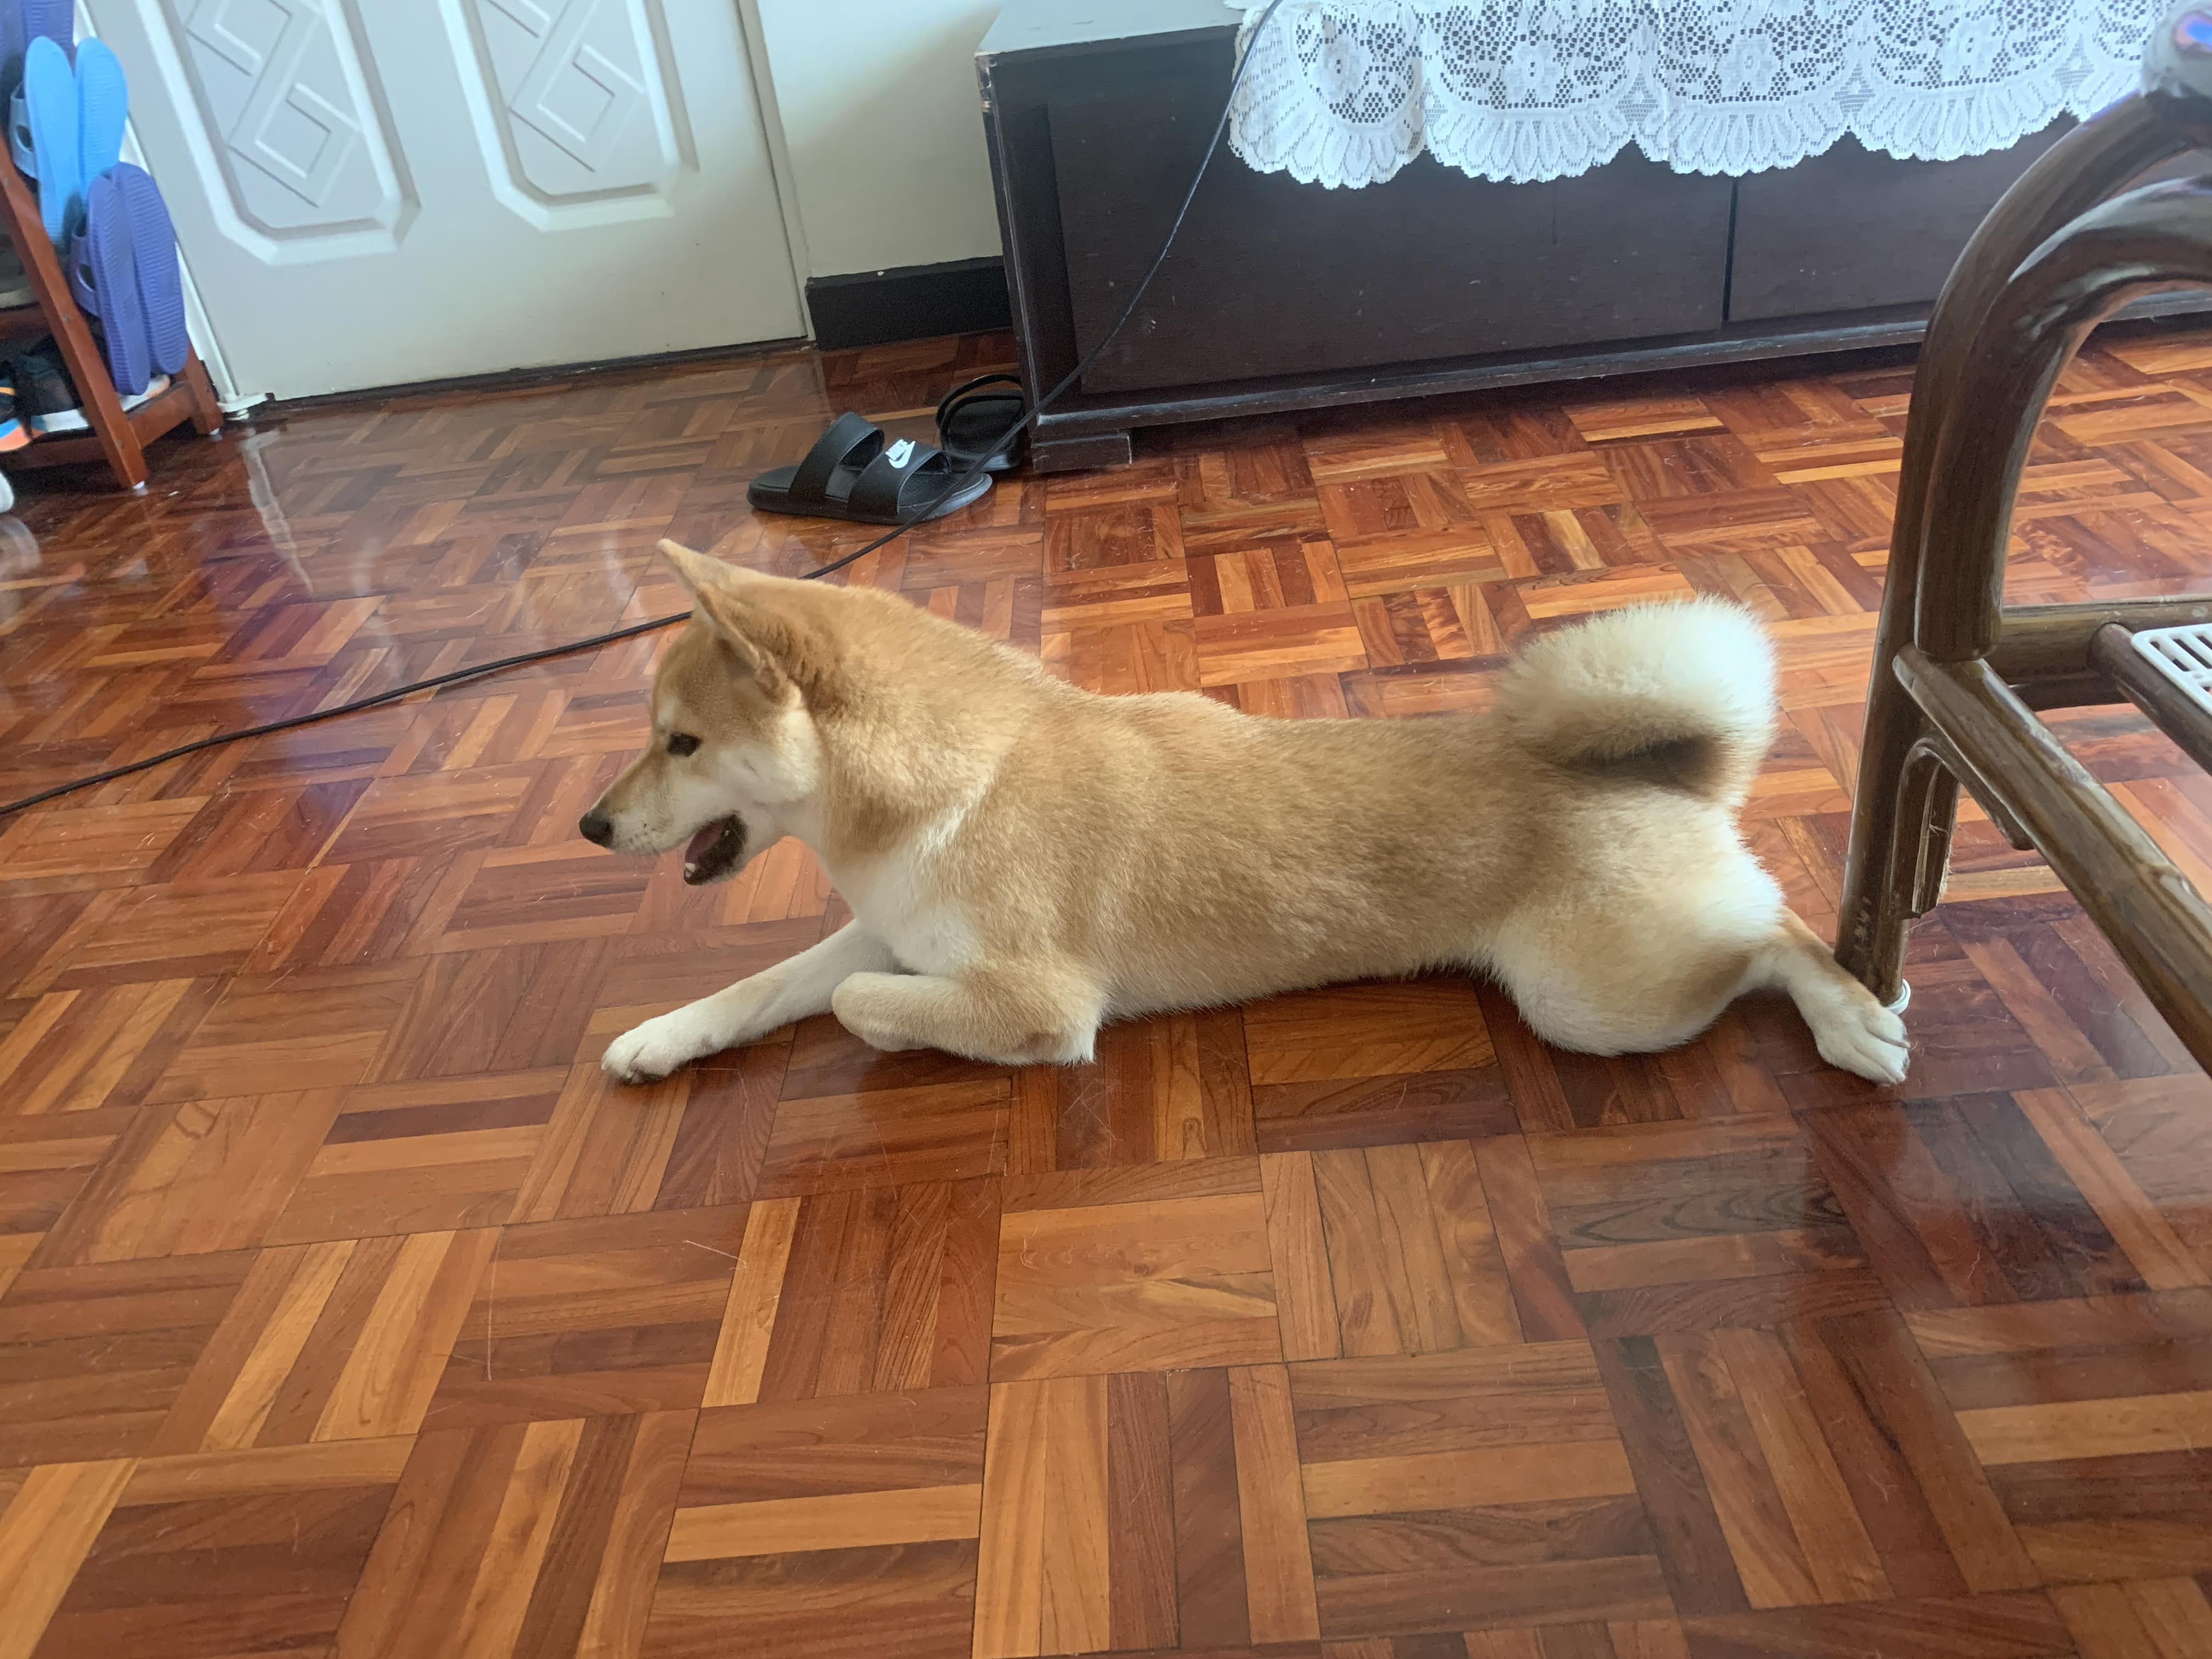Get down: (542, 493, 1940, 1168)
